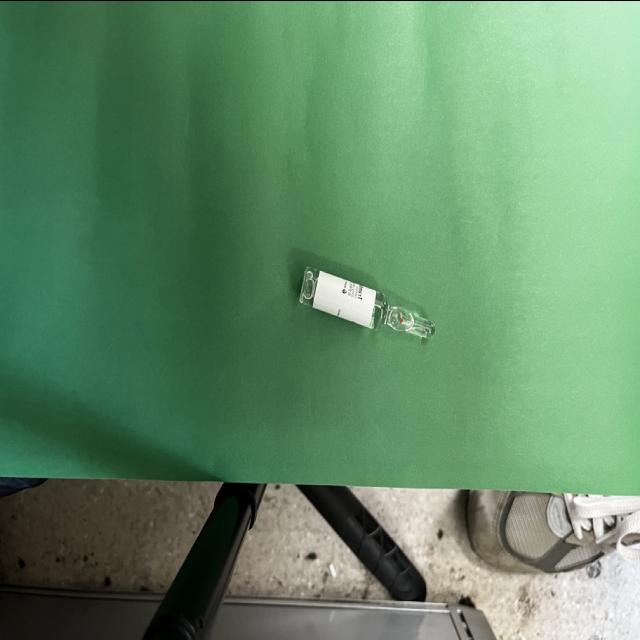Ampoules: (300, 267, 435, 337)
